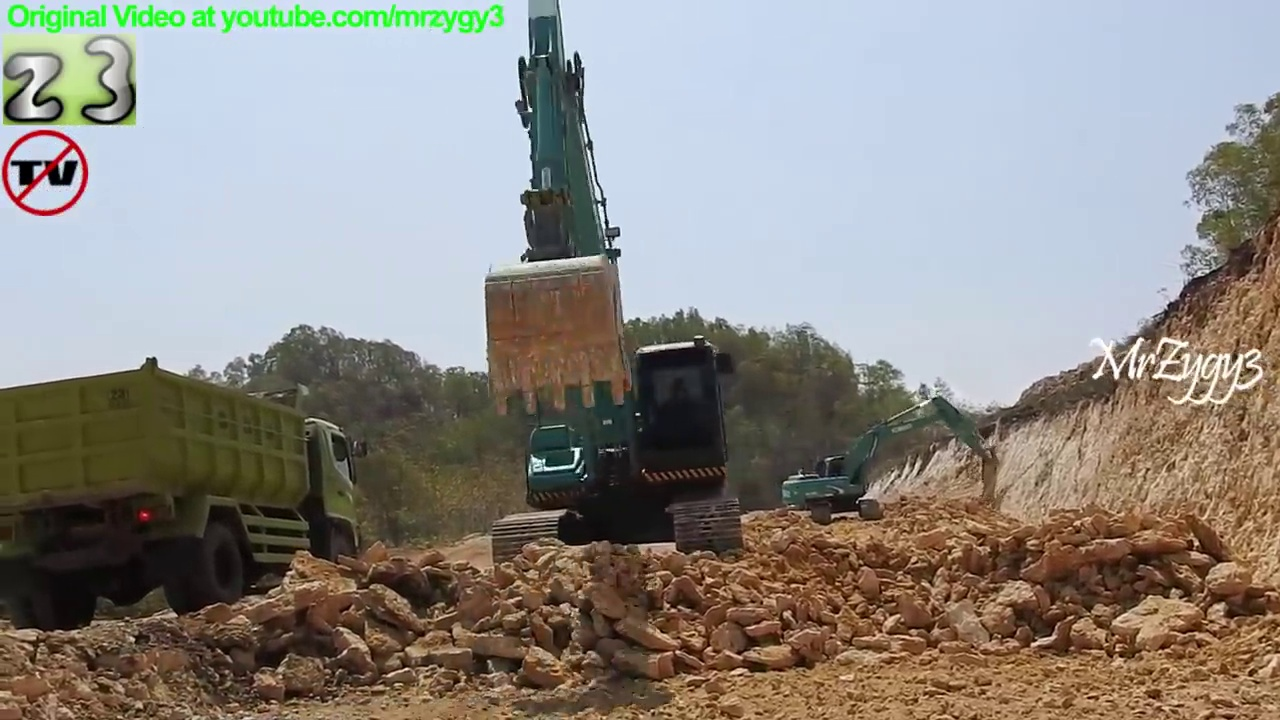excavator: (477, 1, 758, 589)
excavator breaker: (778, 390, 1005, 530)
truck: (1, 355, 377, 638)
